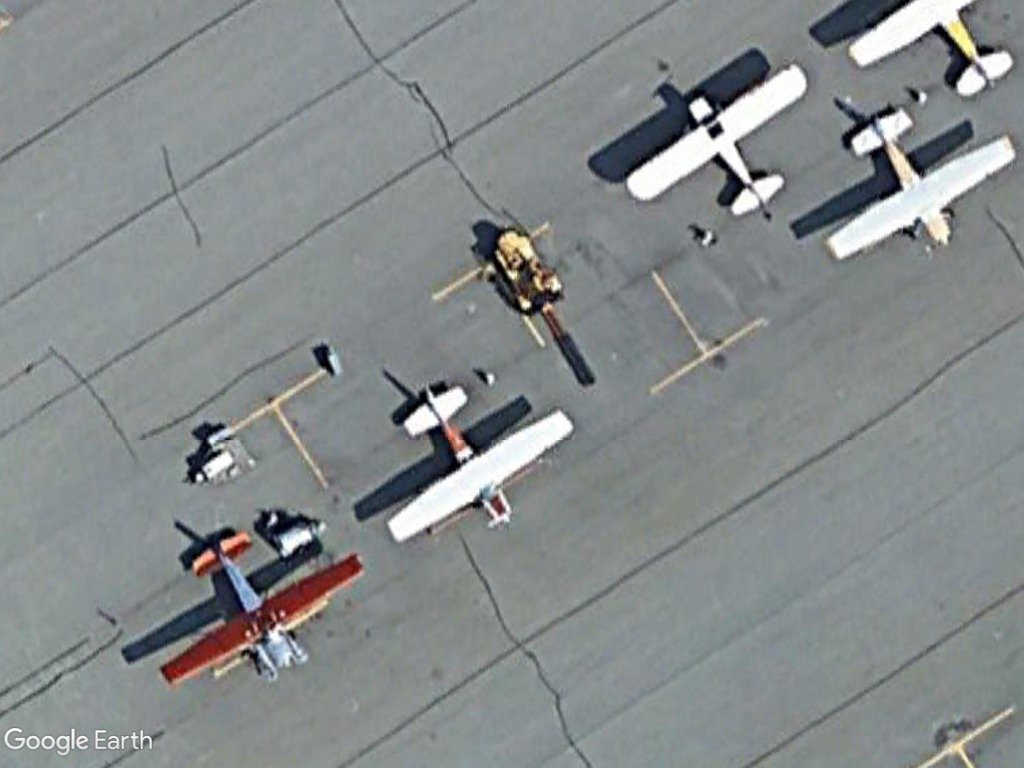trainer: (158, 525, 365, 693), (379, 377, 575, 553), (819, 99, 1012, 275), (620, 57, 814, 221)
